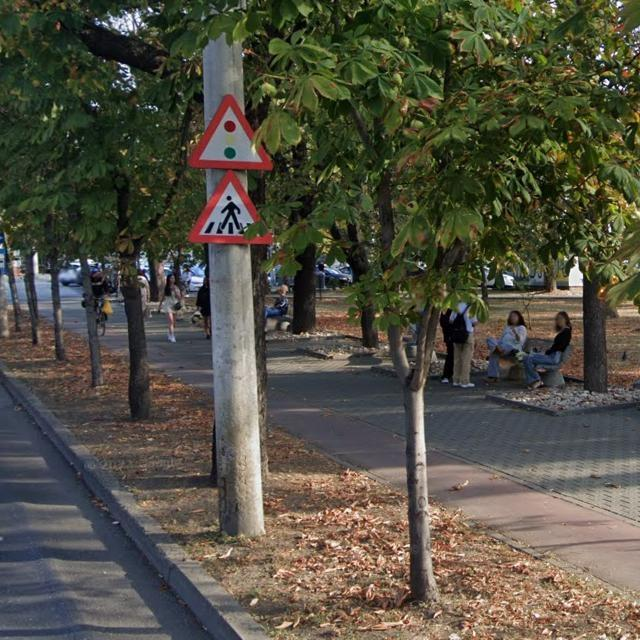warn_crosswalk: (187, 172, 277, 244)
